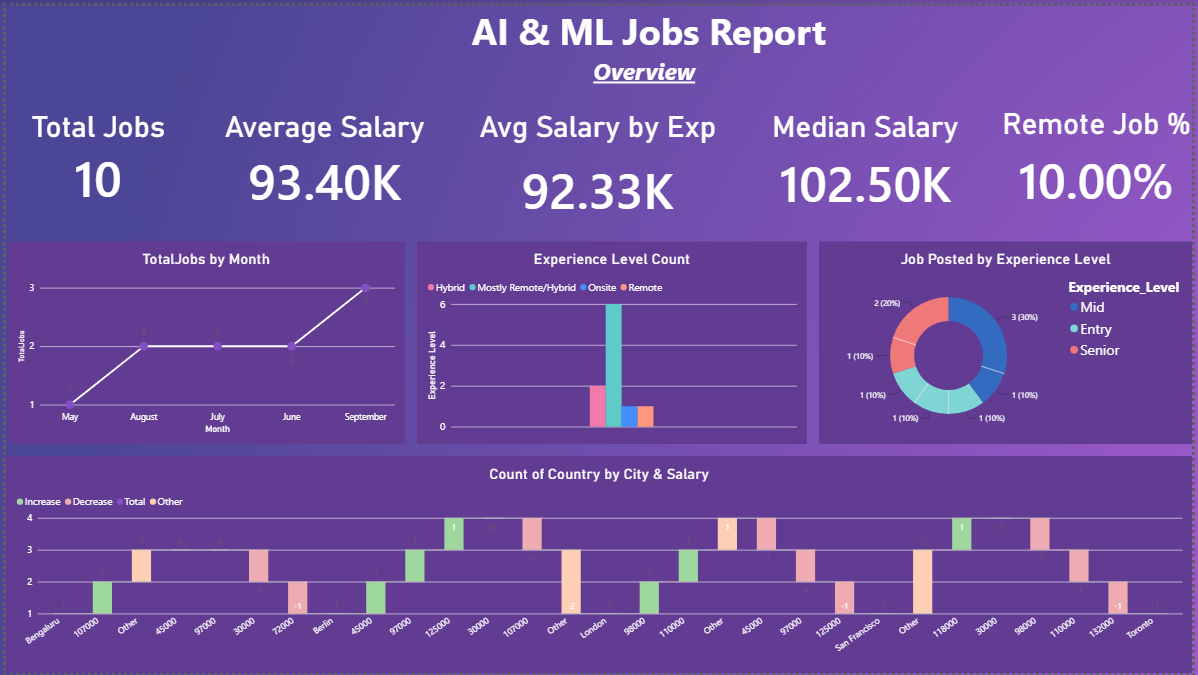

This screenshot's page, from the dashboard's own definition file:
{"tool":"powerbi","page":{"name":"Overview","canvas":[1920,1080],"ordinal":0},"visuals":[{"type":"textbox","box":[745.7,0,590.2,80.2],"z":0},{"type":"cardVisual","title":"Total Jobs","fields":{"Data":["Fact_Jobs.totalJobs"]},"box":[2.4,167.6,293.9,148.2],"z":1},{"type":"cardVisual","title":"Average Salary","fields":{"Data":["Fact_Jobs.AvgSalary"]},"box":[342.5,167.6,347.3,157.9],"z":2},{"type":"cardVisual","title":"Median Salary","fields":{"Data":["Fact_Jobs.MedianSalary"]},"box":[1224.1,167.6,335.2,162.7],"z":3},{"type":"cardVisual","title":"Remote Job %","fields":{"Data":["Fact_Jobs.RemoteJob%"]},"box":[1610.3,162.7,310.9,162.7],"z":4},{"type":"cardVisual","title":"Avg Salary by Exp","fields":{"Data":["Fact_Jobs.AvgSalaryByExperience"]},"box":[745.7,167.6,425,162.7],"z":5},{"type":"lineChart","fields":{"Category":["Dim_Date.Month"],"Y":["Fact_Jobs.totalJobs"]},"box":[2.4,381.3,643.6,327.9],"z":6},{"type":"clusteredColumnChart","title":"Experience Level Count","fields":{"Series":["Fact_Jobs.IsRemote"],"Y":["CountNonNull(Fact_Jobs.Experience_Level)"]},"box":[665.5,381.3,631.5,327.9],"z":7},{"type":"donutChart","title":"Job Posted by Experience Level","fields":{"Category":["Fact_Jobs.Experience_Level"],"Series":["Fact_Jobs.IsRemote"],"Y":["Fact_Jobs.TotalJobs"]},"box":[1316.4,381.3,604.8,327.9],"z":8},{"type":"waterfallChart","title":"Count of Country by City & Salary","fields":{"Breakdown":["Fact_Jobs.Salary_USD"],"Category":["Dim_Locations.City"],"Y":["CountNonNull(Dim_Locations.Country)"]},"box":[0,728.7,1921.2,352.2],"z":9},{"type":"textbox","box":[869.5,80.2,327.9,70.4],"z":10}]}

Visuals, with their boxes in screenshot pixels (x1, y1, x2, y2), scaled from the page's 1920x1080 canvas onto the 1198x675 screenshot:
textbox: x1=465, y1=0, x2=834, y2=50
"Total Jobs" cardVisual: x1=1, y1=105, x2=185, y2=197
"Average Salary" cardVisual: x1=214, y1=105, x2=430, y2=203
"Median Salary" cardVisual: x1=764, y1=105, x2=973, y2=206
"Remote Job %" cardVisual: x1=1005, y1=102, x2=1197, y2=203
"Avg Salary by Exp" cardVisual: x1=465, y1=105, x2=730, y2=206
lineChart - Dim_Date.Month x Fact_Jobs.totalJobs: x1=1, y1=238, x2=403, y2=443
"Experience Level Count" clusteredColumnChart: x1=415, y1=238, x2=809, y2=443
"Job Posted by Experience Level" donutChart: x1=821, y1=238, x2=1197, y2=443
"Count of Country by City & Salary" waterfallChart: x1=0, y1=455, x2=1197, y2=674
textbox: x1=543, y1=50, x2=747, y2=94
